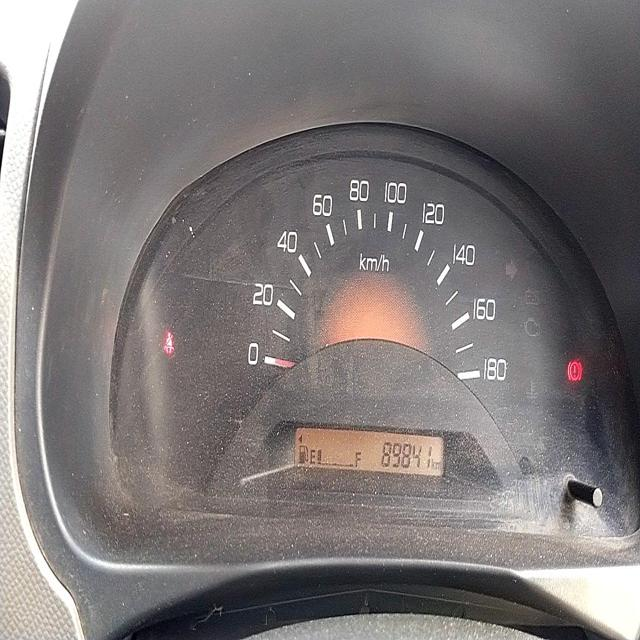odometer: (380, 440, 432, 471)
